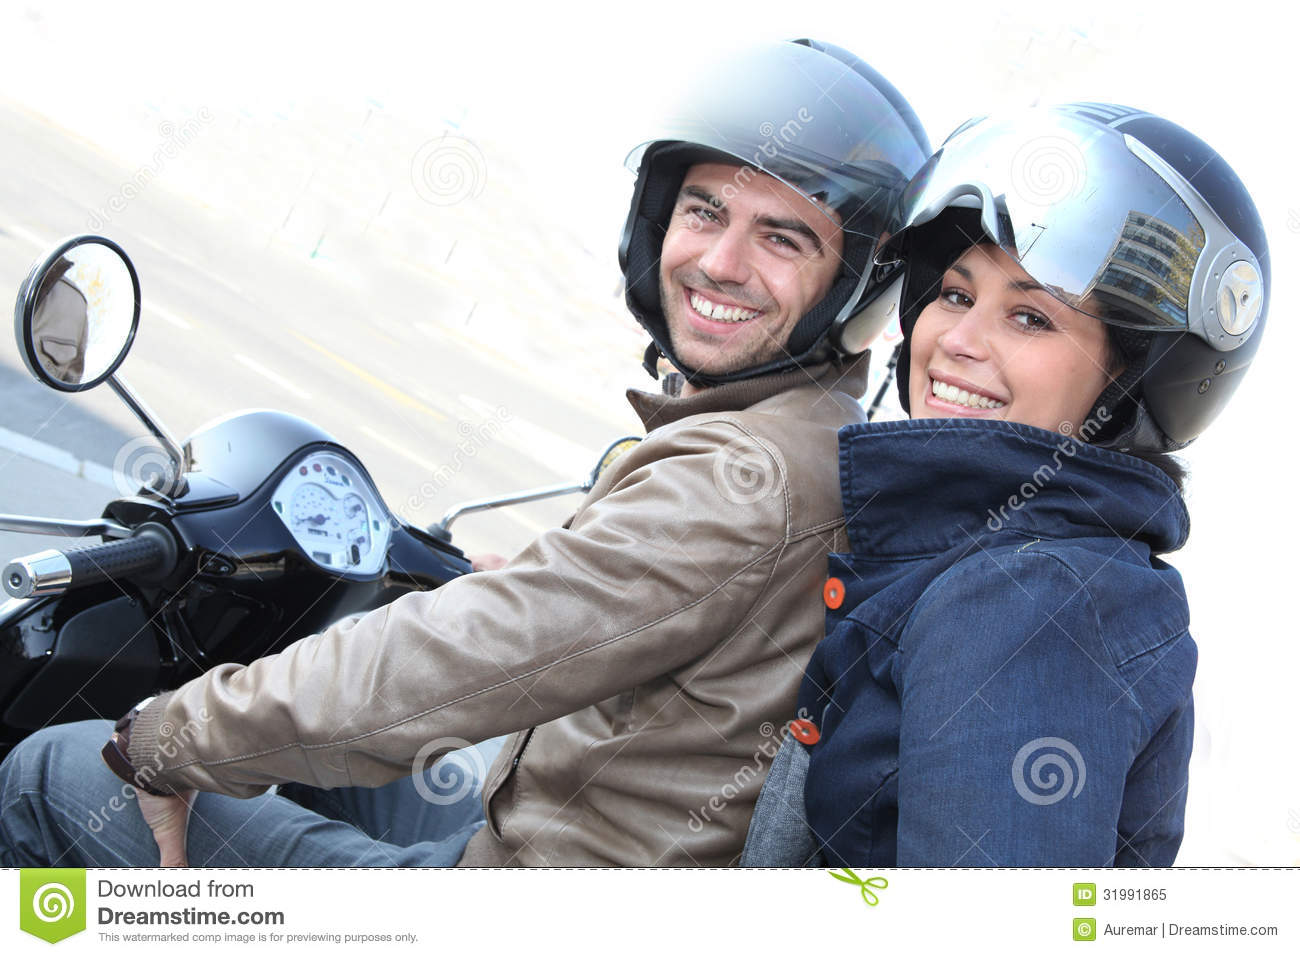helmet: (926, 98, 1265, 420), (624, 77, 924, 327)
